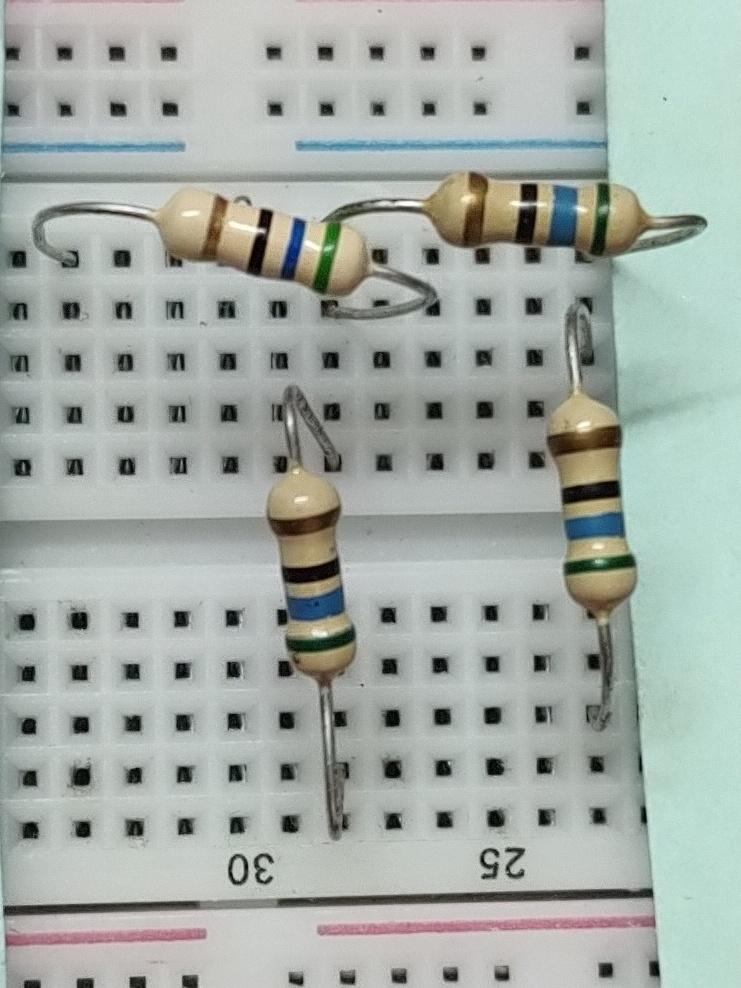resistor: (145, 185, 383, 320), (265, 452, 380, 688), (418, 167, 658, 272), (537, 385, 645, 615)
